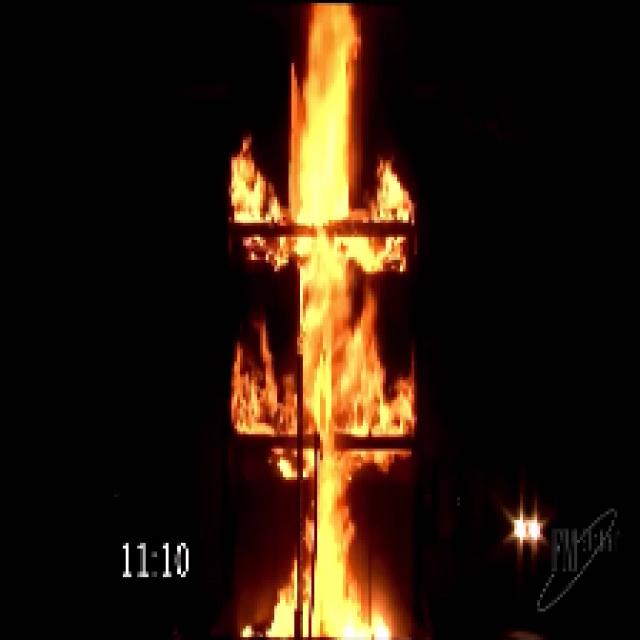fire: (276, 6, 378, 633)
